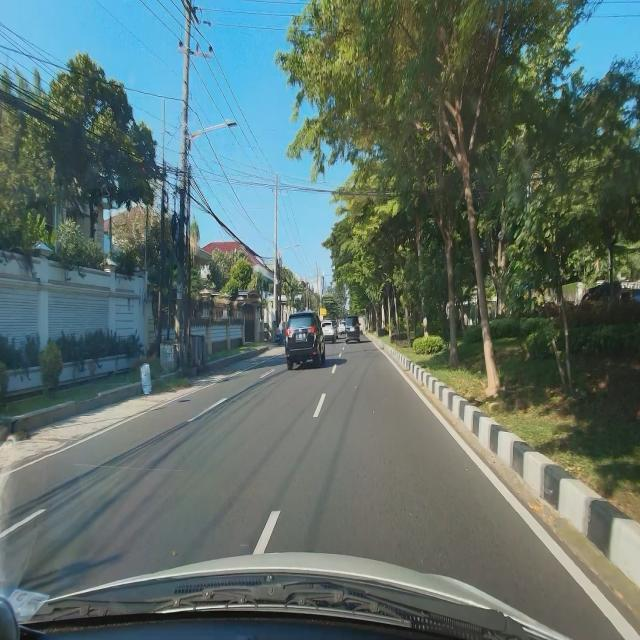car: (284, 311, 328, 372)
license-plate: (296, 333, 306, 341)
